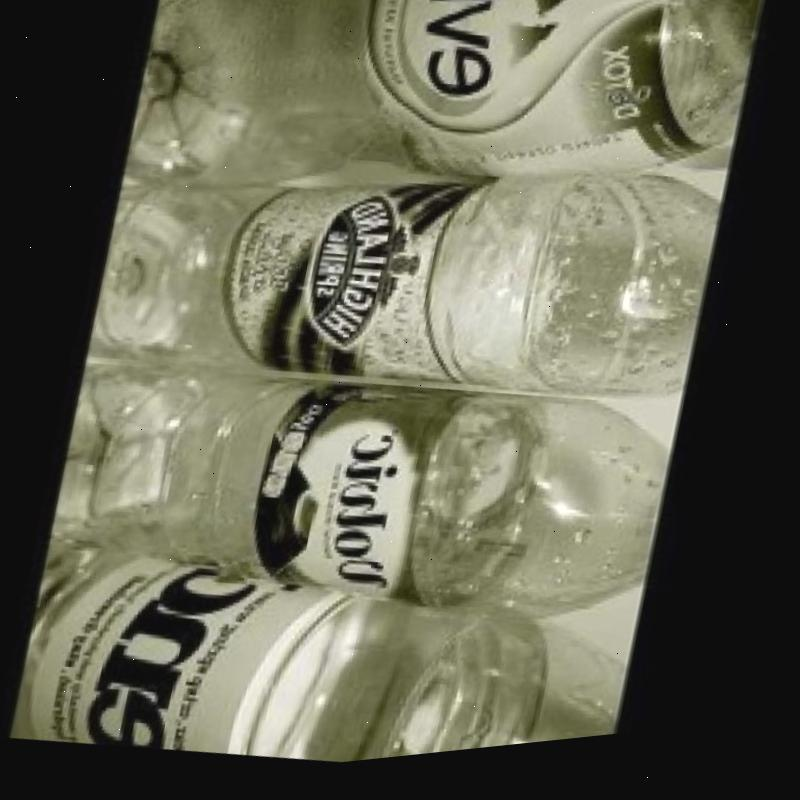botella: (42, 304, 689, 702), (88, 87, 731, 470), (16, 476, 655, 797), (126, 0, 770, 278)
